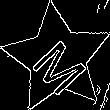M_NE: (24, 24, 91, 93)
